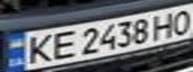2: (75, 25, 103, 56)
3: (115, 18, 136, 48)
4: (96, 20, 121, 52)
8: (130, 16, 154, 44)
E: (45, 28, 81, 61)
H: (148, 10, 178, 39)
K: (21, 32, 57, 65)
O: (166, 7, 193, 36)
